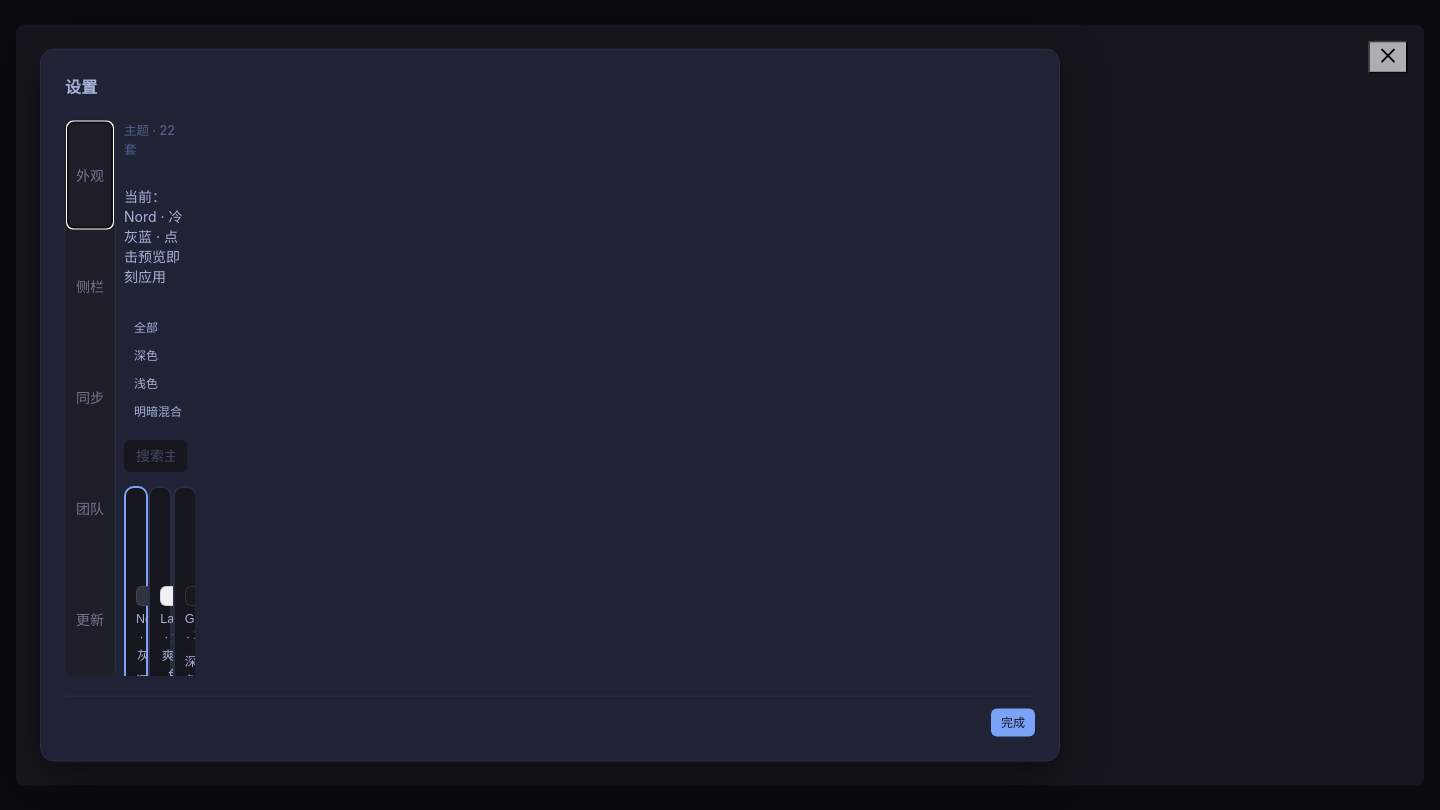
Test case: rejects invalid repository text with an actionable example
Press the mouse on the tab "同步" at (90, 398), box [68,345,112,450]
(page scrolled)
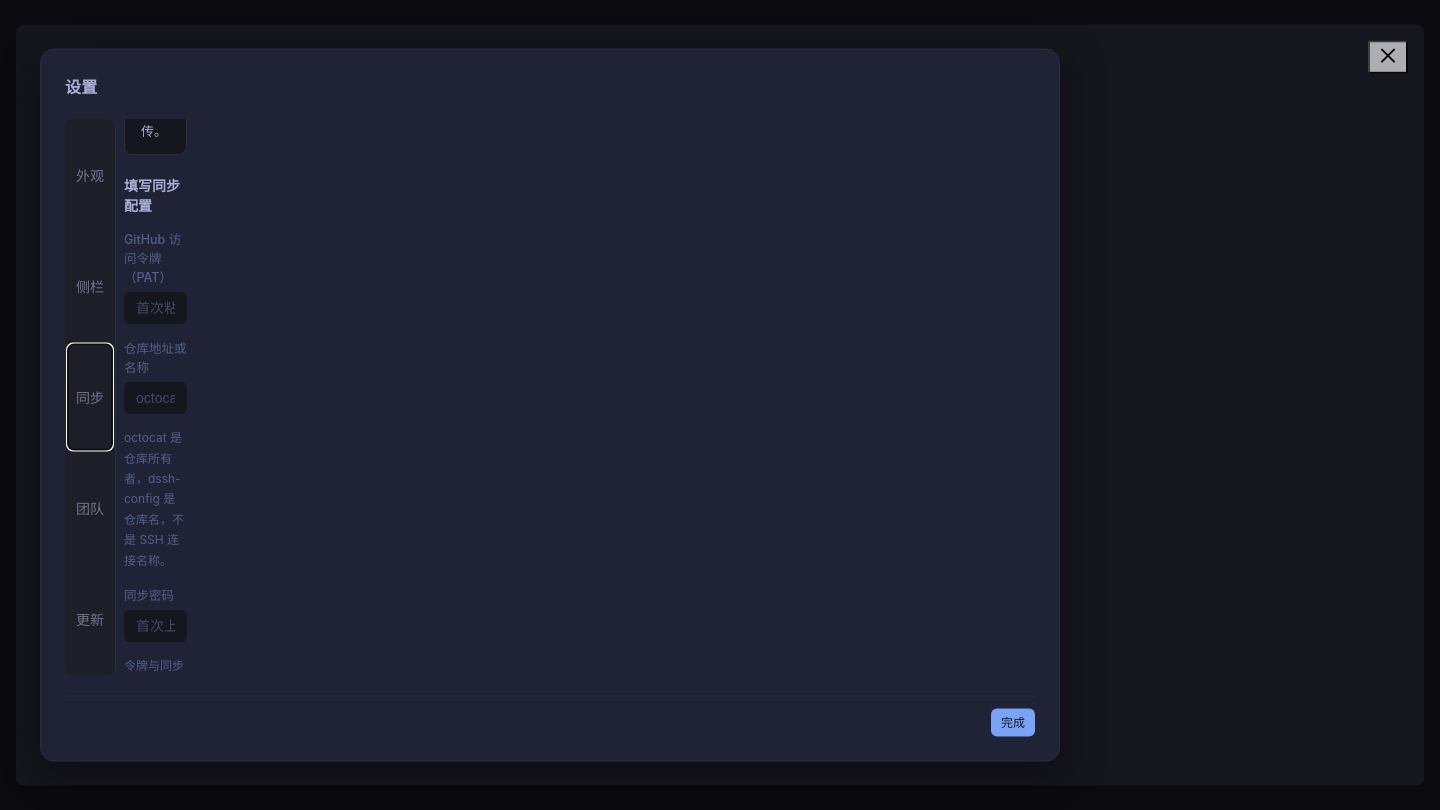
Type "not a repository" into the field labelled "仓库地址或名称" at (156, 398), box [124,382,187,414]
(page scrolled)
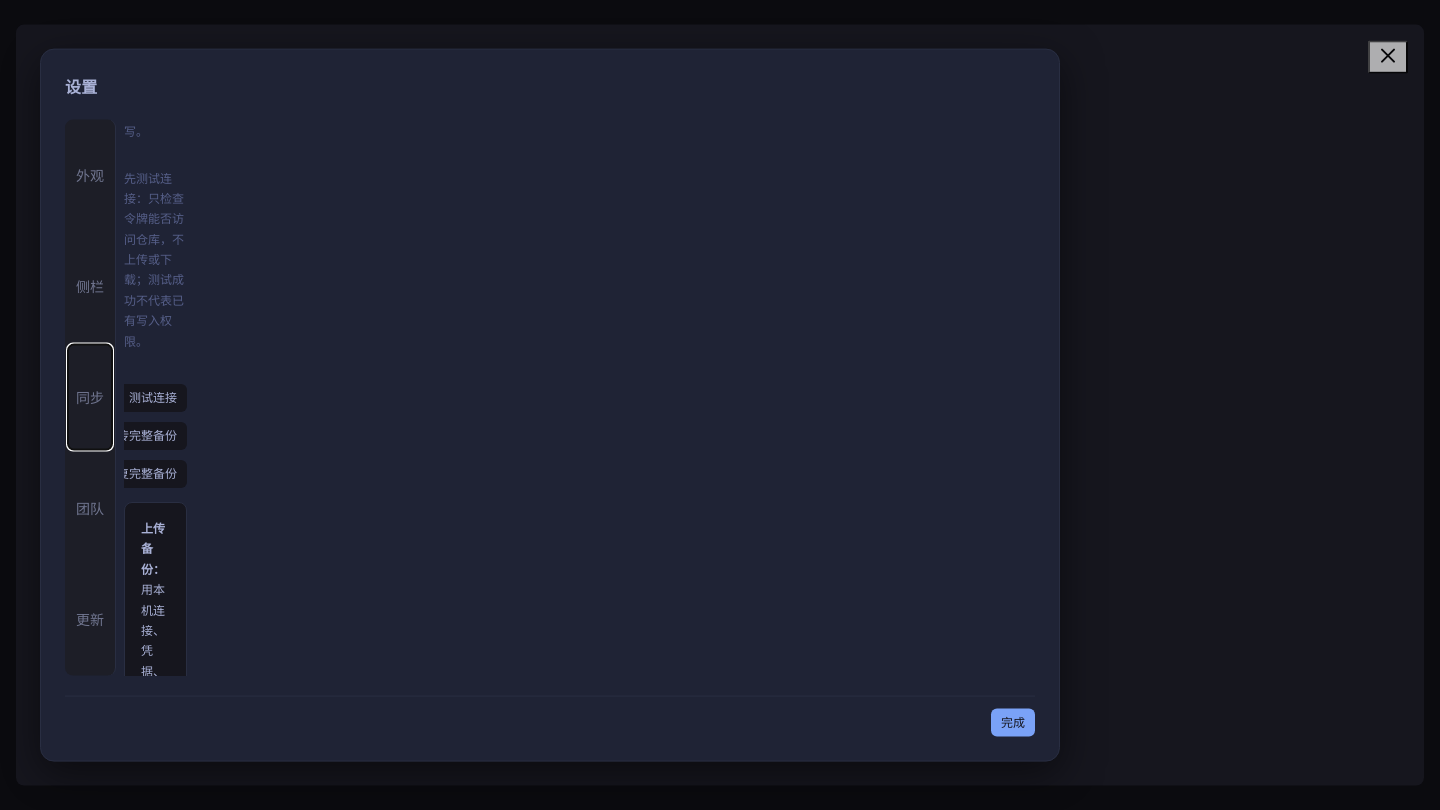
Click the button "测试连接" at (153, 398), box [119,384,187,412]
(page scrolled)
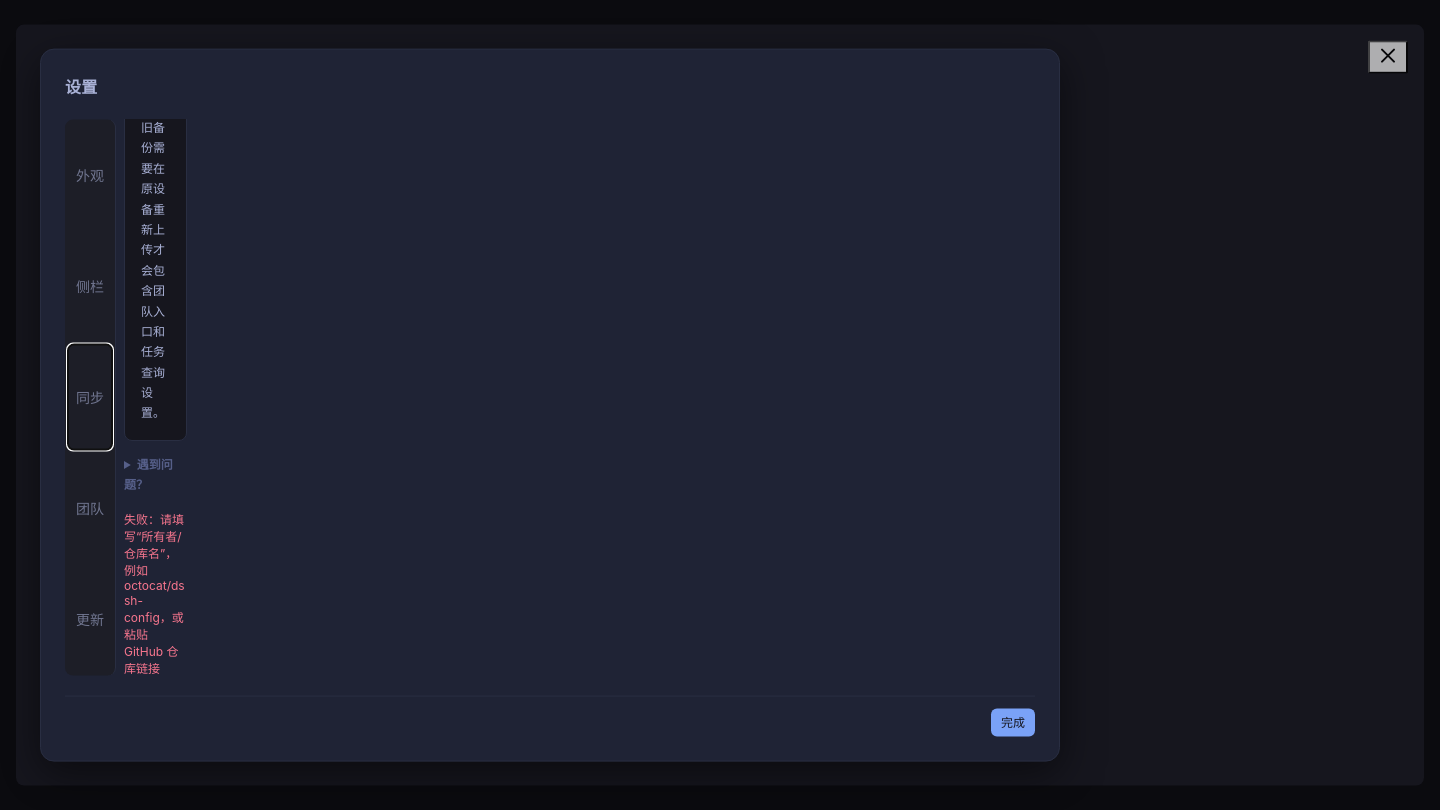
Expected: the text "失败：请填写“所有者/仓库名”，例如 octocat/dssh-config，或粘贴 GitHub 仓库链接" is shown, [124,509,187,675]
